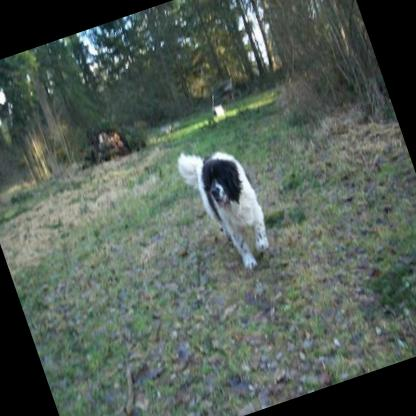Newfoundland: (170, 131, 278, 282)
